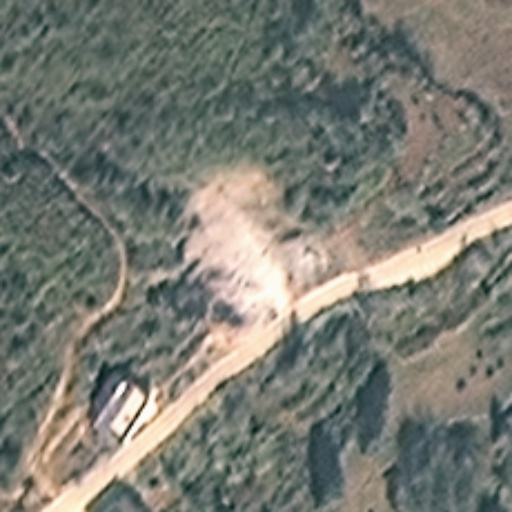landslide: (170, 171, 297, 314)
